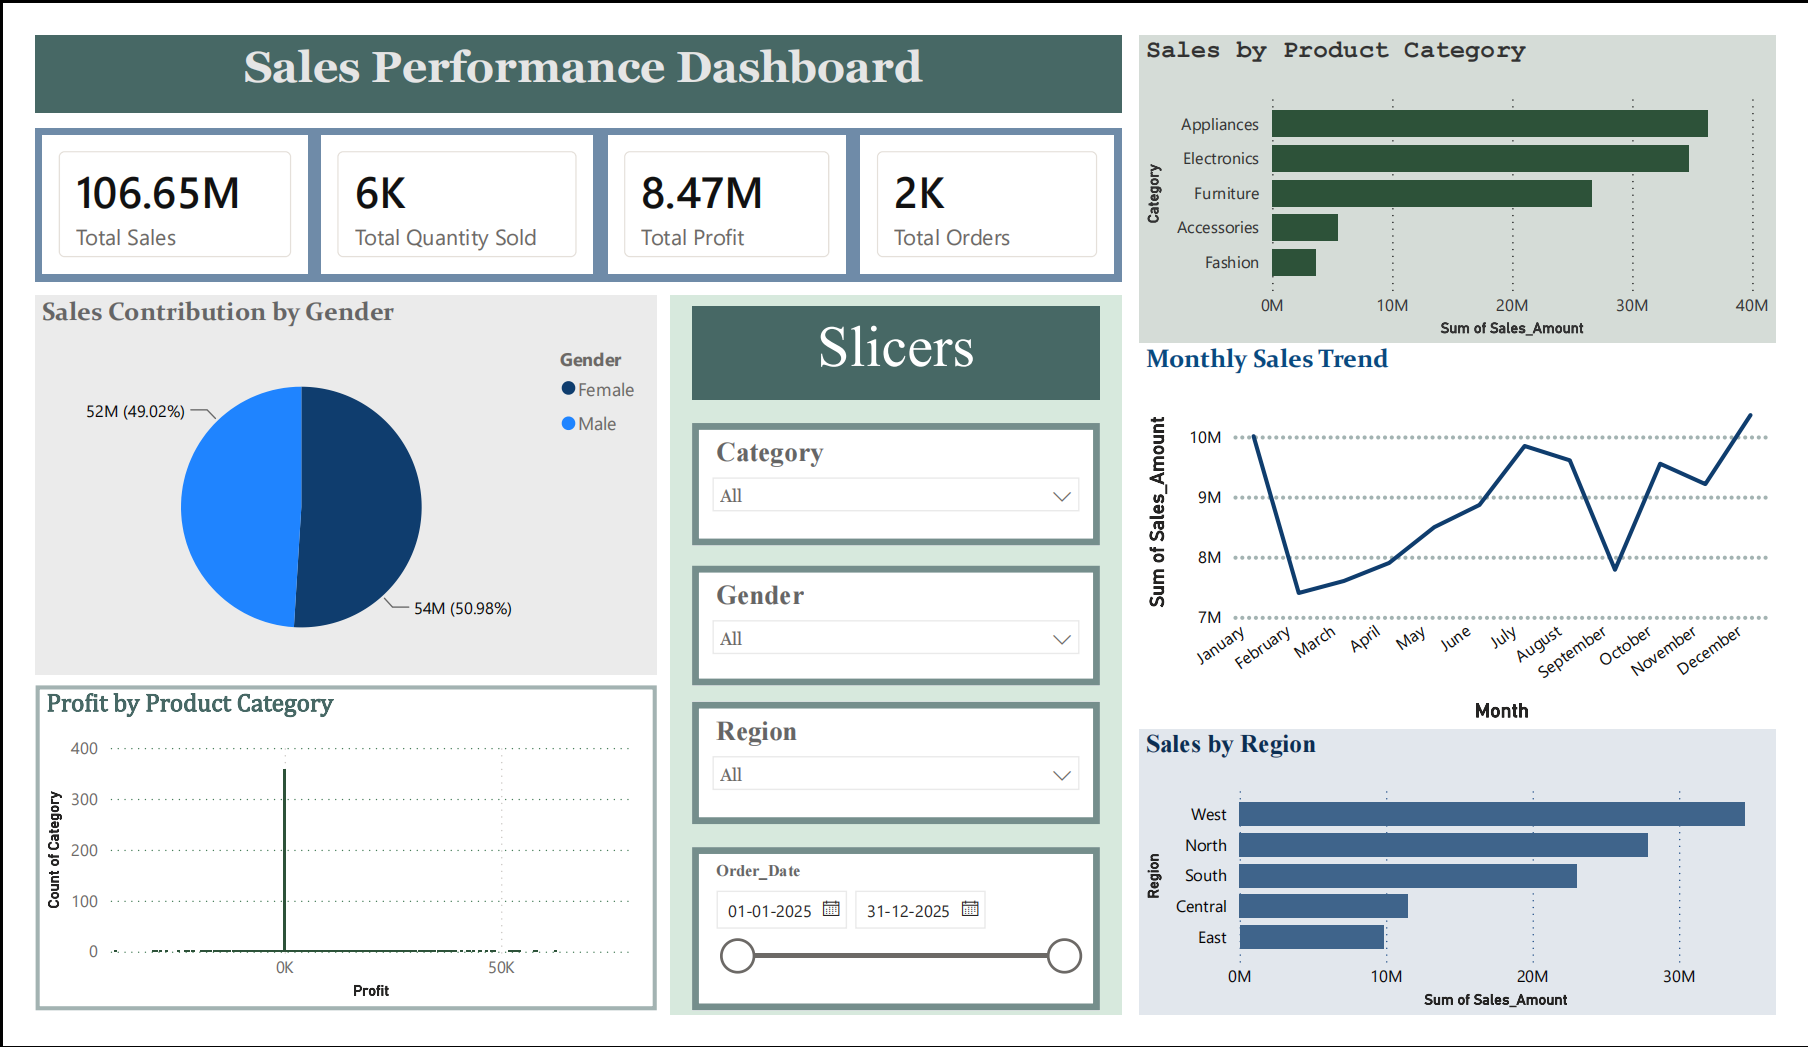

The page's visual inventory and layout, read from the dashboard file:
{"tool":"powerbi","page":{"name":"Page 1","canvas":[1280,720],"ordinal":0},"visuals":[{"type":"textbox","box":[0,0,798.5,57.5],"z":0},{"type":"cardVisual","fields":{"Data":["Sales Dataset.Total Sales"]},"box":[0,68.5,205.4,112.5],"z":1000},{"type":"cardVisual","fields":{"Data":["Sales Dataset.Total Profit"]},"box":[415.8,68.5,185.9,112.5],"z":2000},{"type":"cardVisual","fields":{"Data":["Sales Dataset.Total Orders"]},"box":[601.6,68.5,196.9,112.5],"z":3000},{"type":"cardVisual","fields":{"Data":["Sales Dataset.Total Quantity Sold"]},"box":[205.4,68.5,210.3,112.5],"z":4000},{"type":"lineChart","title":"Monthly Sales Trend ","fields":{"Category":["Sales Dataset.Order_Date.Variation.Date Hierarchy.Month"],"Y":["Sum(Sales Dataset.Sales_Amount)"]},"box":[812,226.2,468.3,283.7],"z":5000},{"type":"barChart","title":"Sales by Product Category","fields":{"Category":["Sales Dataset.Category"],"Y":["Sum(Sales Dataset.Sales_Amount)"]},"box":[812,0,468.3,226.2],"z":6000},{"type":"barChart","title":"Sales by Region","fields":{"Category":["Sales Dataset.Region"],"Y":["Sum(Sales Dataset.Sales_Amount)"]},"box":[812,509.9,468.3,210.3],"z":7000},{"type":"columnChart","title":"Profit by Product Category","fields":{"Y":["CountNonNull(Sales Dataset.Category)"],"Category":["Sales Dataset.Profit"]},"box":[0,478.1,457.3,238.5],"z":8000},{"type":"pieChart","title":"Sales Contribution by Gender","fields":{"Category":["Sales Dataset.Gender"],"Y":["Sum(Sales Dataset.Sales_Amount)"]},"box":[0,190.8,457.3,278.8],"z":9000},{"type":"textbox","box":[467.1,190.8,331.4,529.5],"z":10000},{"type":"slicer","fields":{"Values":["Sales Dataset.Category"]},"box":[483,284.9,299.6,90.5],"z":11000},{"type":"slicer","fields":{"Values":["Sales Dataset.Gender"]},"box":[483,390.1,299.6,88],"z":12000},{"type":"slicer","fields":{"Values":["Sales Dataset.Region"]},"box":[483,490.4,299.6,89.3],"z":12001},{"type":"slicer","fields":{"Values":["Sales Dataset.Order_Date"]},"box":[483,596.7,299.6,119.8],"z":12002},{"type":"textbox","box":[483,199.3,299.6,68.5],"z":12003}]}

Visuals, with their boxes in screenshot pixels (x1, y1, x2, y2), scaled from the page's 1280x720 canvas onto the 1808x1047 screenshot:
textbox: region(0, 0, 1128, 84)
cardVisual - Sales Dataset.Total Sales: region(0, 100, 290, 263)
cardVisual - Sales Dataset.Total Profit: region(587, 100, 850, 263)
cardVisual - Sales Dataset.Total Orders: region(850, 100, 1128, 263)
cardVisual - Sales Dataset.Total Quantity Sold: region(290, 100, 587, 263)
"Monthly Sales Trend " lineChart: region(1147, 329, 1807, 741)
"Sales by Product Category" barChart: region(1147, 0, 1807, 329)
"Sales by Region" barChart: region(1147, 741, 1807, 1046)
"Profit by Product Category" columnChart: region(0, 695, 646, 1042)
"Sales Contribution by Gender" pieChart: region(0, 277, 646, 683)
textbox: region(660, 277, 1128, 1046)
slicer - Sales Dataset.Category: region(682, 414, 1105, 546)
slicer - Sales Dataset.Gender: region(682, 567, 1105, 695)
slicer - Sales Dataset.Region: region(682, 713, 1105, 843)
slicer - Sales Dataset.Order_Date: region(682, 868, 1105, 1042)
textbox: region(682, 290, 1105, 389)
